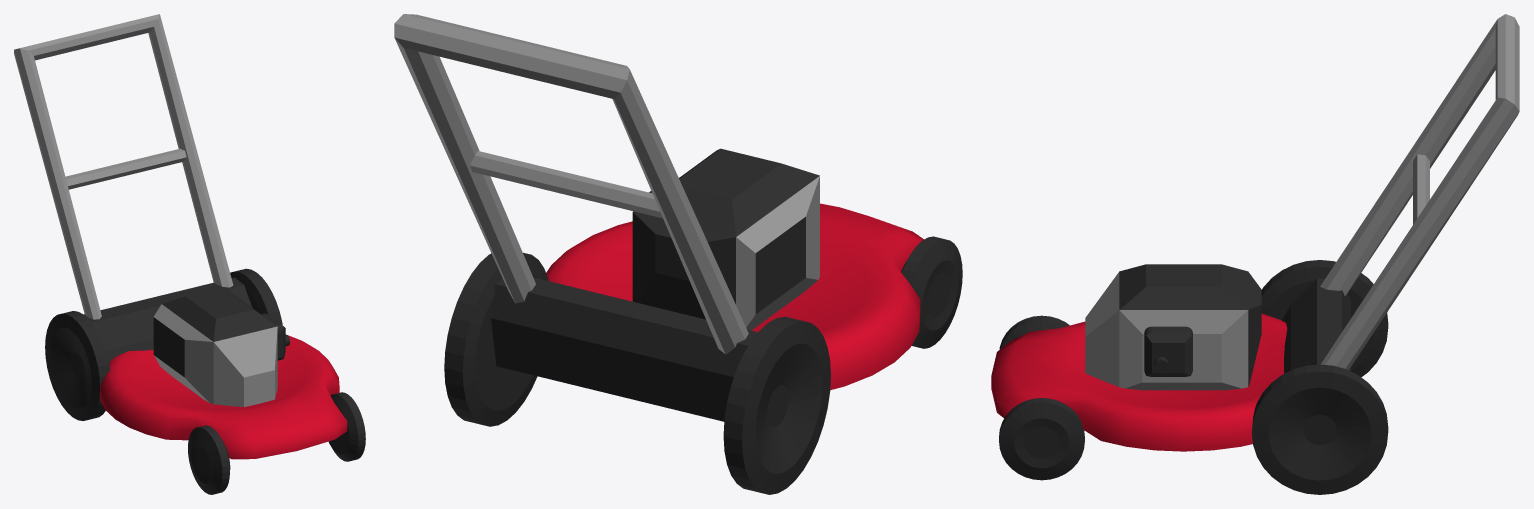
Rendered from small mower.fbx.
The picture shows the model from 3 angles, left to right: view 1: azimuth 30°, elevation 25°; view 2: azimuth 150°, elevation 25°; view 3: azimuth 270°, elevation 25°; orthographic projection. The views are drawn at different scales.
Parts seen in each view (by area): view 1: Cylinder.006; view 2: Cylinder.006; view 3: Cylinder.006.
Part boxes in pixels (box(x1,y1,x2,y2)): Cylinder.006: box(14, 14, 365, 494); Cylinder.006: box(394, 14, 962, 494); Cylinder.006: box(991, 14, 1519, 494).
Size of the model in its own units: 525 by 745 by 931.
